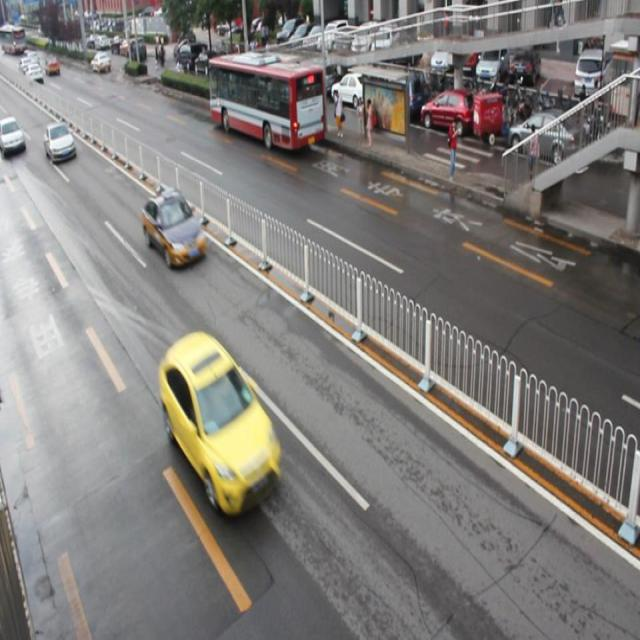car: (158, 328, 280, 514), (142, 189, 209, 268)
van: (208, 53, 323, 152)
